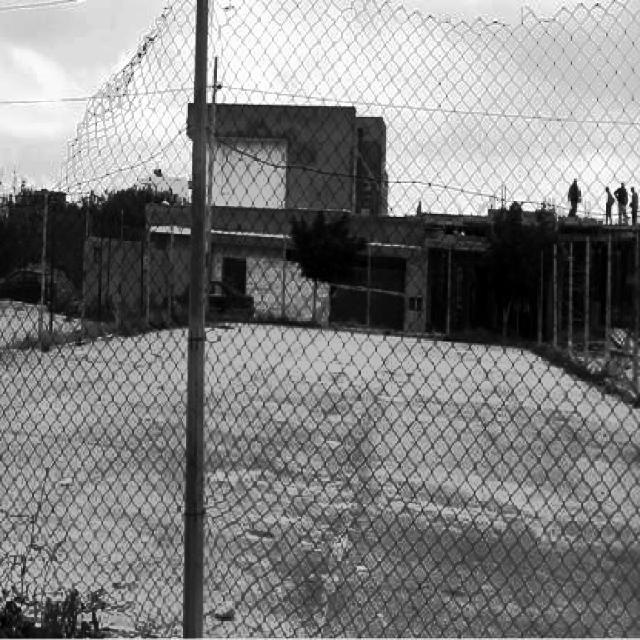anomaly-fence: (0, 5, 186, 322), (335, 3, 640, 59)
